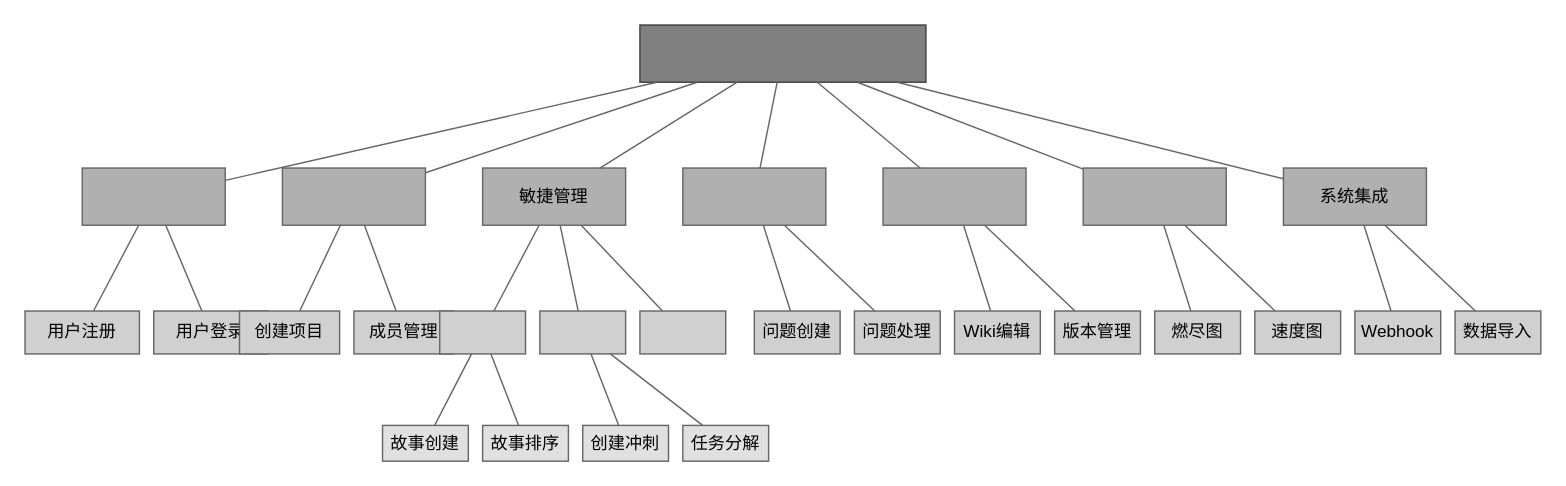
This 1566x486 diagram has some shape labels left out. The box of each missing label's shape, as (x1, y1, x2, y2) in pixels:
Backlog: (438, 310, 526, 354)
Kanban: (638, 310, 726, 354)
Sprint: (538, 310, 626, 354)
Taiga 敏捷项目管理系统: (638, 24, 926, 82)
用户认证: (81, 167, 225, 225)
知识库: (882, 167, 1026, 225)
统计报表: (1082, 167, 1226, 225)
问题追踪: (681, 167, 826, 225)
项目管理: (281, 167, 425, 225)
